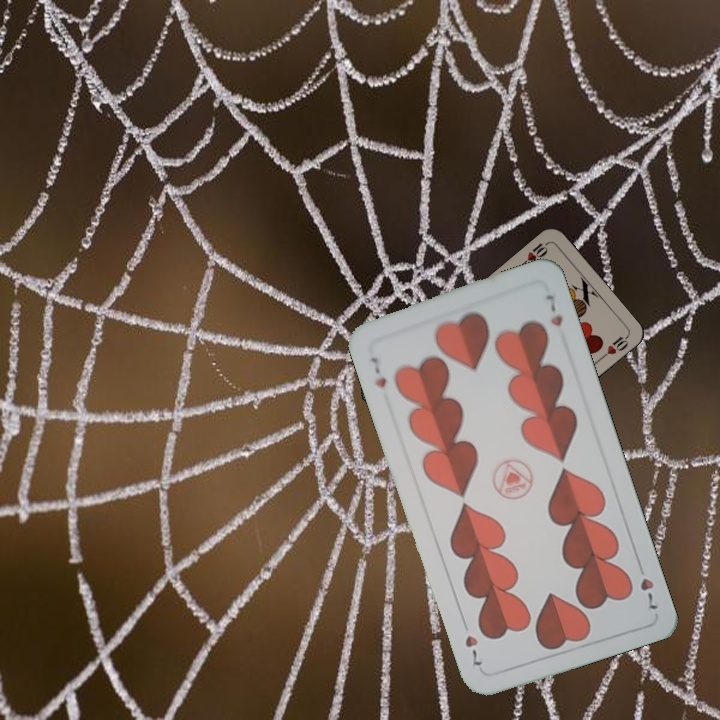H10: (517, 238, 551, 268)
H7: (633, 557, 661, 612), (366, 353, 389, 390)
